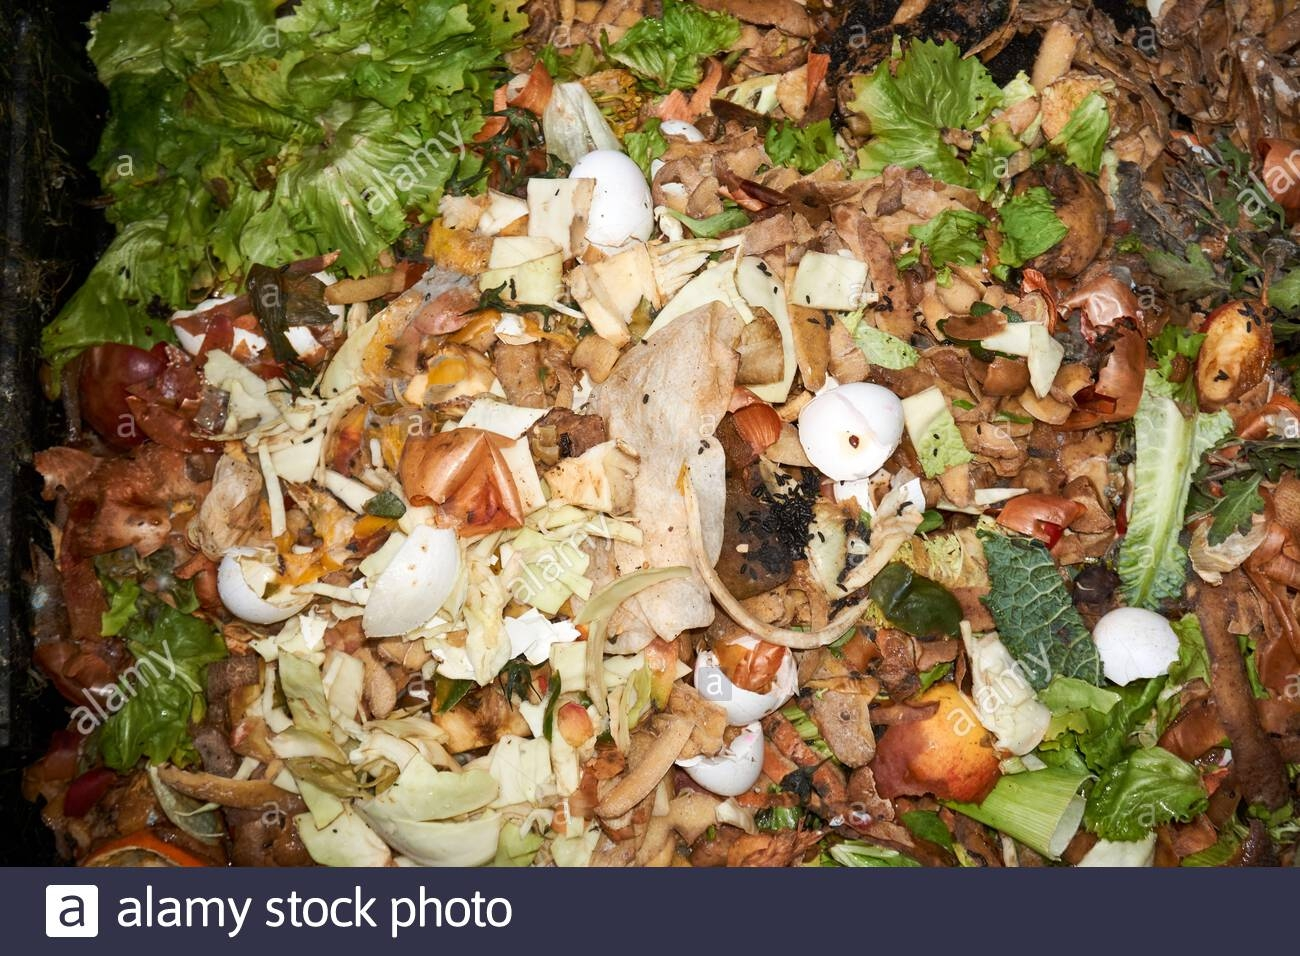kitchen_waste: (29, 4, 561, 343), (656, 450, 879, 651), (846, 48, 1034, 190), (81, 610, 240, 772), (1102, 368, 1201, 615), (334, 518, 479, 646), (780, 363, 920, 489), (353, 763, 515, 870), (388, 420, 529, 541), (935, 759, 1101, 860), (595, 1, 753, 99), (60, 339, 191, 456), (953, 618, 1066, 750), (574, 706, 695, 829), (883, 678, 1010, 794), (728, 463, 845, 586), (1179, 294, 1289, 416), (1082, 745, 1204, 850), (556, 148, 680, 249), (196, 537, 329, 622), (681, 627, 803, 718), (148, 752, 312, 819), (1082, 589, 1184, 691), (660, 717, 780, 793), (898, 188, 989, 283), (800, 684, 891, 772), (989, 178, 1070, 274), (1047, 84, 1125, 178)
